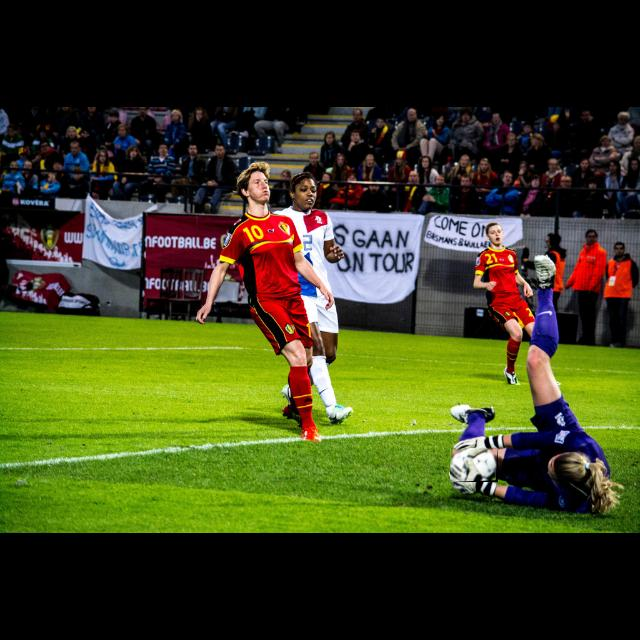Football: (450, 448, 498, 482)
